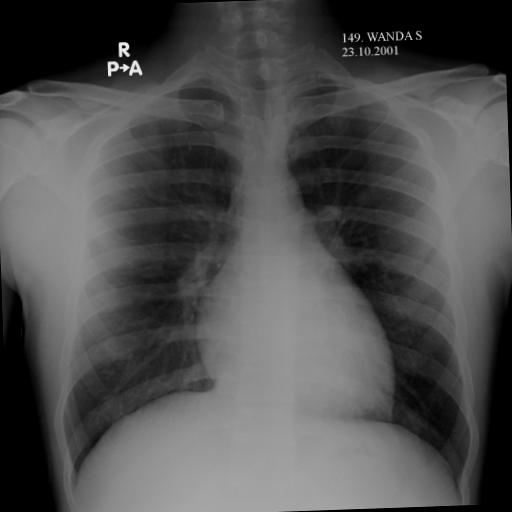kardiomegali: (38, 39, 478, 512)
